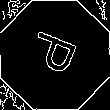P_E: (25, 28, 85, 82)
